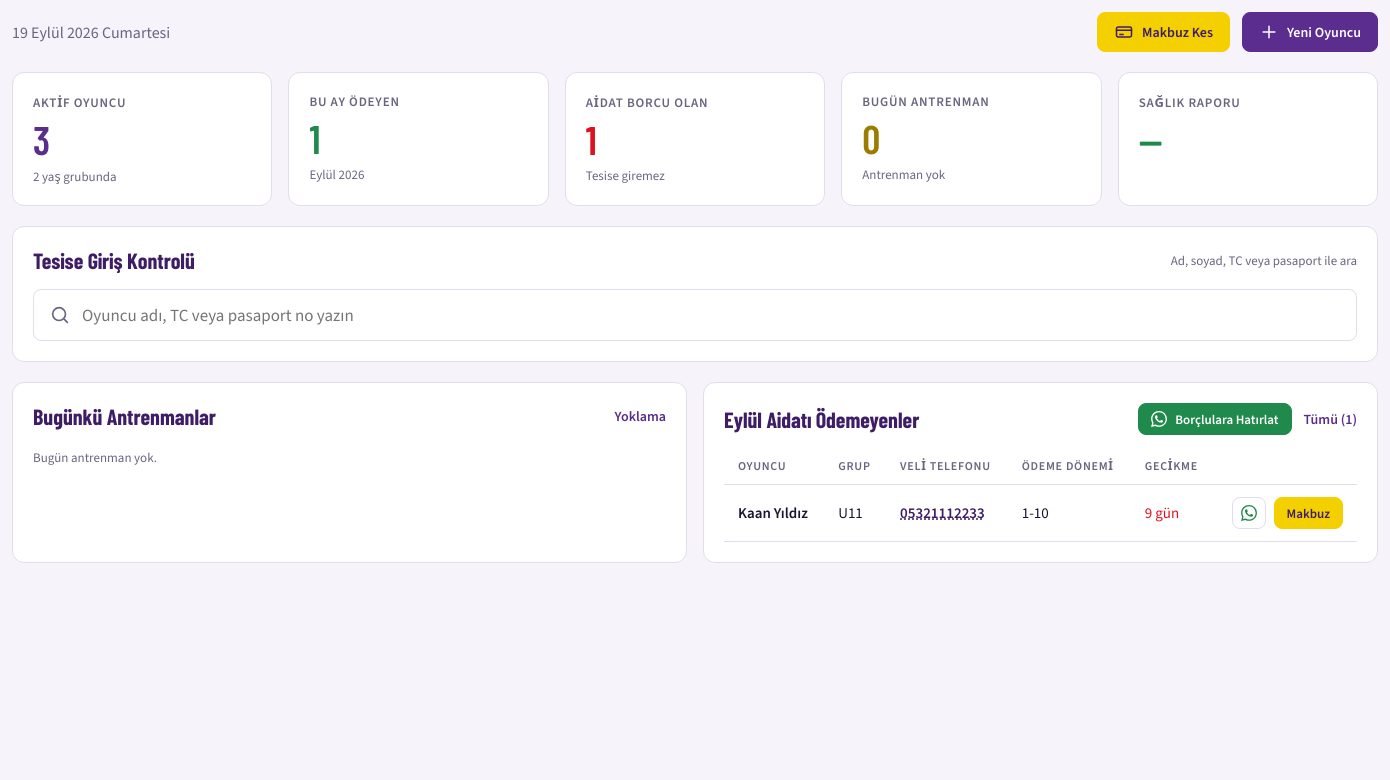
Test case: Pano — tesise giriş kontrolü › ödeyen girebilir, ödemeyen aidat borcu, dondurmadaki giremez
The image size is (1390, 780).
Expected: the heading "Tesise Giriş Kontrolü" is shown, [33,247,195,273]
Type "K" into the field named "Tesise giriş araması" at [695, 315], box [33,289,1357,341]
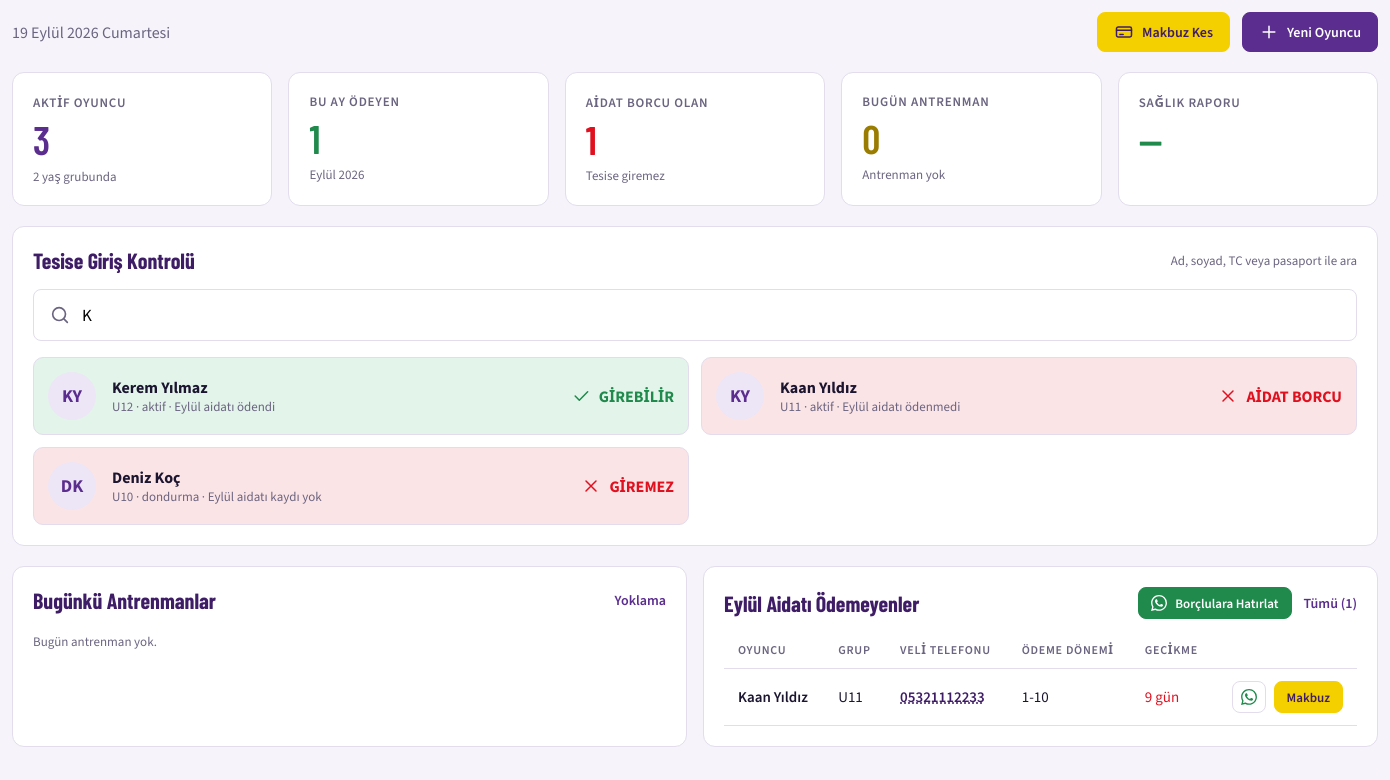
Expected: the text "Kerem Yılmaz" is shown, [112,377,208,398]
Expected: the text "GİREBİLİR" is shown, [571,385,674,407]
Expected: the text "AİDAT BORCU" is shown, [1218,385,1342,407]
